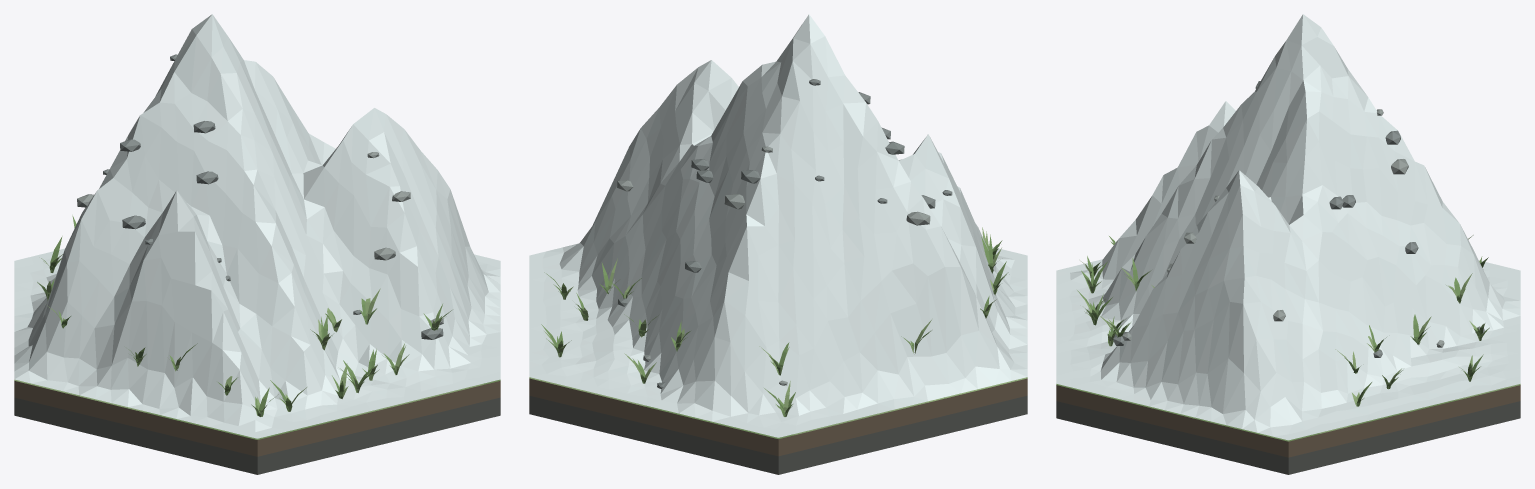
File: snow-peak.glb
The picture shows the model from 3 angles, left to right: view 1: azimuth 30°, elevation 25°; view 2: azimuth 150°, elevation 25°; view 3: azimuth 270°, elevation 25°; orthographic projection. The views are drawn at different scales.
Parts seen in each view (by area): view 1: SnowZone.010_mesh, SnowZone.009_mesh, LandformRoot_mesh, SnowZone.007_mesh, SnowZone.008_mesh, SnowZone.005_mesh, SnowZone.011_mesh, SnowZone.006_mesh, SnowZone.004_mesh, SnowZone.003_mesh, SnowZone.002_mesh, SnowZone.001_mesh; view 2: SnowZone.010_mesh, SnowZone.009_mesh, LandformRoot_mesh, SnowZone.011_mesh, SnowZone.008_mesh, SnowZone.007_mesh, SnowZone.006_mesh, SnowZone.005_mesh, SnowZone.004_mesh, SnowZone.003_mesh, SnowZone.002_mesh, SnowZone.001_mesh (+1 smaller); view 3: SnowZone.010_mesh, SnowZone.009_mesh, LandformRoot_mesh, SnowZone.011_mesh, SnowZone.008_mesh, SnowZone.007_mesh, SnowZone.005_mesh, SnowZone.006_mesh, SnowZone.004_mesh, SnowZone.002_mesh, SnowZone.003_mesh, SnowZone.001_mesh (+1 smaller).
Part boxes in pixels (bbox=[...]): SnowZone.010_mesh: bbox=[28, 200, 488, 431]; SnowZone.009_mesh: bbox=[14, 189, 500, 438]; LandformRoot_mesh: bbox=[14, 54, 500, 474]; SnowZone.007_mesh: bbox=[65, 151, 450, 303]; SnowZone.008_mesh: bbox=[64, 170, 451, 327]; SnowZone.005_mesh: bbox=[99, 107, 404, 240]; SnowZone.011_mesh: bbox=[27, 254, 487, 427]; SnowZone.006_mesh: bbox=[81, 123, 421, 272]; SnowZone.004_mesh: bbox=[110, 62, 399, 213]; SnowZone.003_mesh: bbox=[140, 58, 276, 152]; SnowZone.002_mesh: bbox=[166, 35, 257, 112]; SnowZone.001_mesh: bbox=[175, 14, 243, 73]; SnowZone.010_mesh: bbox=[542, 222, 1015, 428]; SnowZone.009_mesh: bbox=[529, 178, 1027, 437]; LandformRoot_mesh: bbox=[529, 79, 1027, 474]; SnowZone.011_mesh: bbox=[542, 230, 1013, 422]; SnowZone.008_mesh: bbox=[612, 139, 973, 340]; SnowZone.007_mesh: bbox=[629, 108, 960, 301]; SnowZone.006_mesh: bbox=[659, 85, 948, 270]; SnowZone.005_mesh: bbox=[675, 68, 943, 239]; SnowZone.004_mesh: bbox=[675, 68, 910, 206]; SnowZone.003_mesh: bbox=[694, 60, 877, 172]; SnowZone.002_mesh: bbox=[761, 37, 845, 133]; SnowZone.001_mesh: bbox=[776, 36, 827, 100]; SnowZone.010_mesh: bbox=[1068, 196, 1508, 419]; SnowZone.009_mesh: bbox=[1056, 195, 1520, 440]; LandformRoot_mesh: bbox=[1056, 81, 1520, 474]; SnowZone.011_mesh: bbox=[1068, 235, 1506, 434]; SnowZone.008_mesh: bbox=[1146, 166, 1458, 372]; SnowZone.007_mesh: bbox=[1167, 132, 1427, 311]; SnowZone.005_mesh: bbox=[1199, 101, 1397, 235]; SnowZone.006_mesh: bbox=[1182, 125, 1414, 275]; SnowZone.004_mesh: bbox=[1208, 92, 1378, 225]; SnowZone.002_mesh: bbox=[1257, 46, 1366, 109]; SnowZone.003_mesh: bbox=[1239, 58, 1376, 191]; SnowZone.001_mesh: bbox=[1275, 37, 1333, 79].
Bounding box in the file's own units: 3.5 × 2.38 × 3.03.
